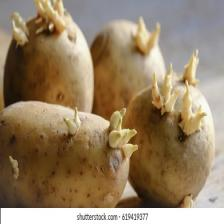Sprouted potato: (95, 52, 218, 206), (3, 99, 144, 208), (2, 0, 96, 133), (90, 11, 185, 130)
